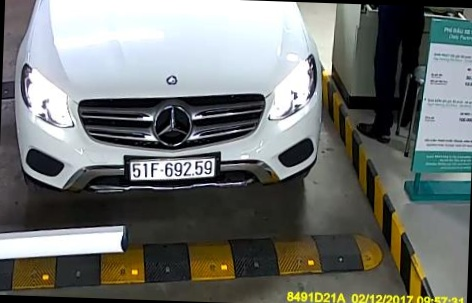plate: (119, 146, 219, 185)
